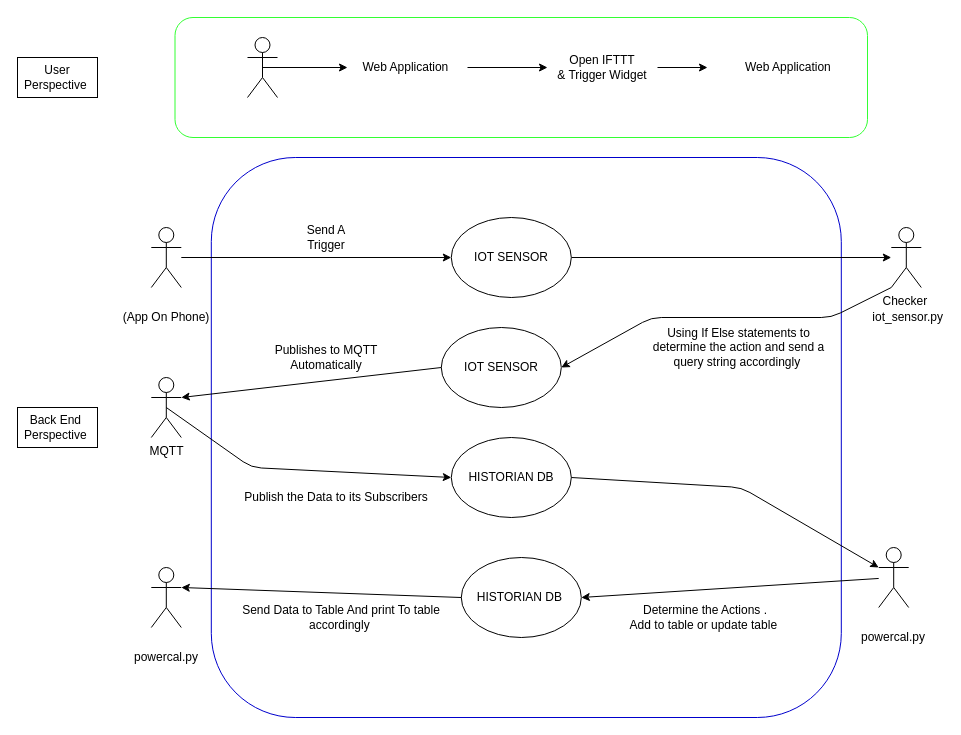
Some shapes in this 961 by 735 pixel diagram are drawn without their labels. The shapes that lost their labels are listed below. From the top down, each one's box as (x1, y1, x2, y2) in pixels, then its label:
(246, 36, 278, 98): USER
(150, 226, 181, 288): IFTTT
(150, 566, 181, 628): WEBPAGE
(878, 546, 909, 608): Guide
